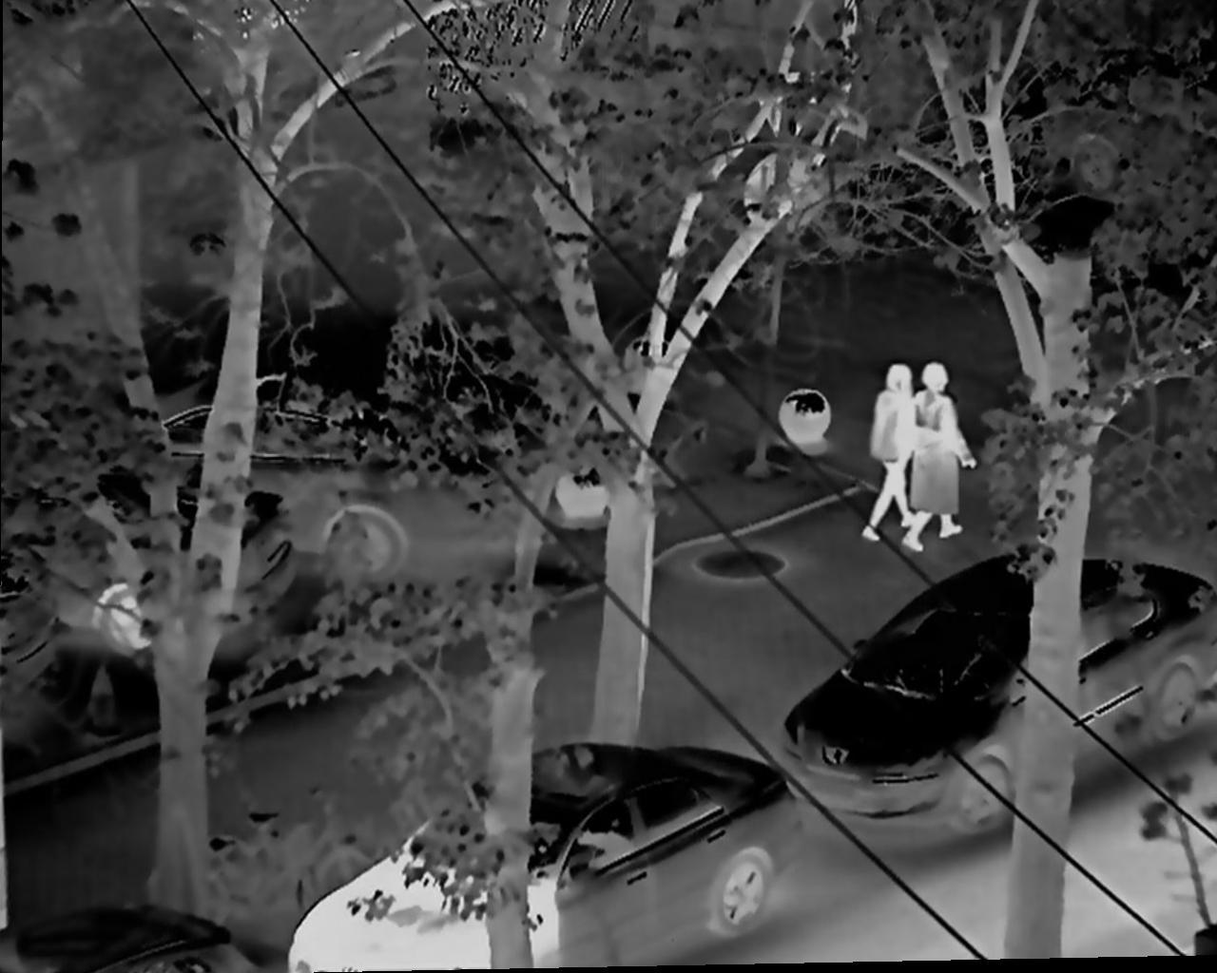person: (858, 361, 927, 549), (918, 356, 971, 541)
